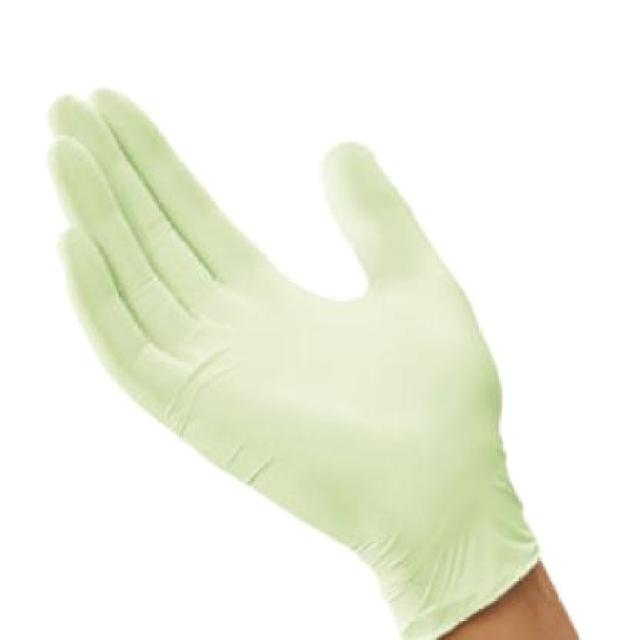glove: (40, 80, 565, 637)
